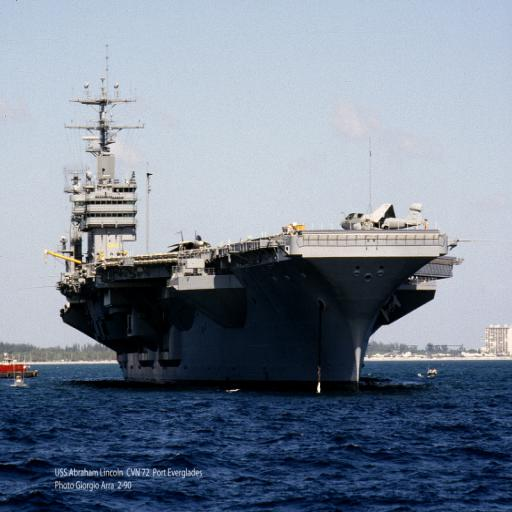Portanaves: (48, 34, 461, 400)
